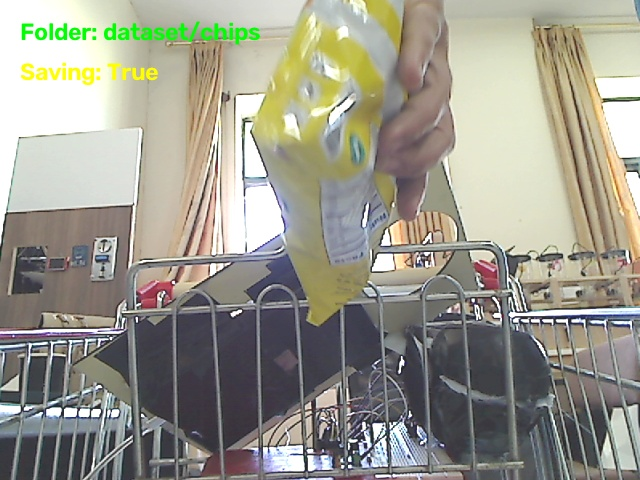chips: (252, 0, 405, 324)
